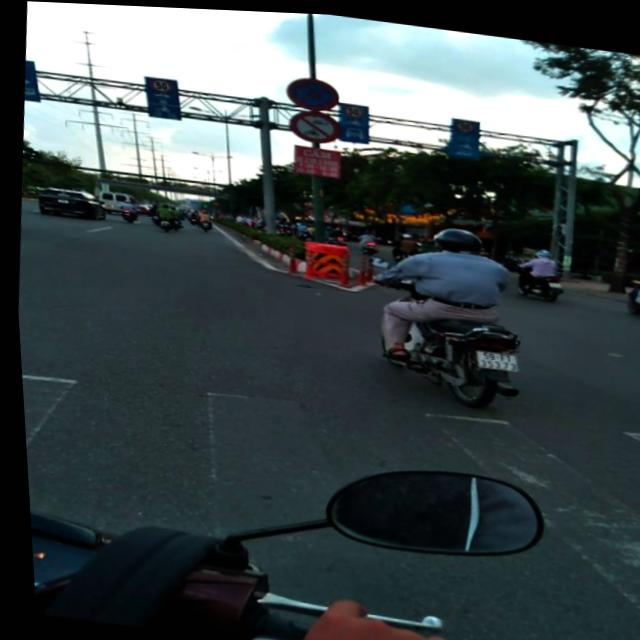Cam dung xe va do xe: (282, 72, 340, 111)
Toc do toi da cho phep: (147, 77, 173, 92), (341, 101, 363, 116), (454, 115, 473, 129)
